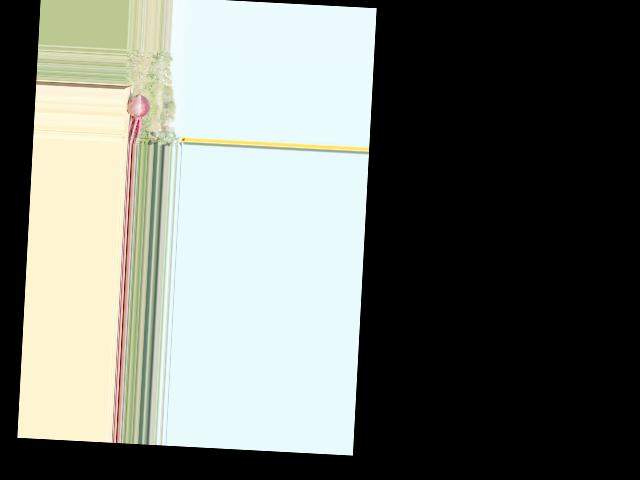beet: (125, 52, 152, 145)
